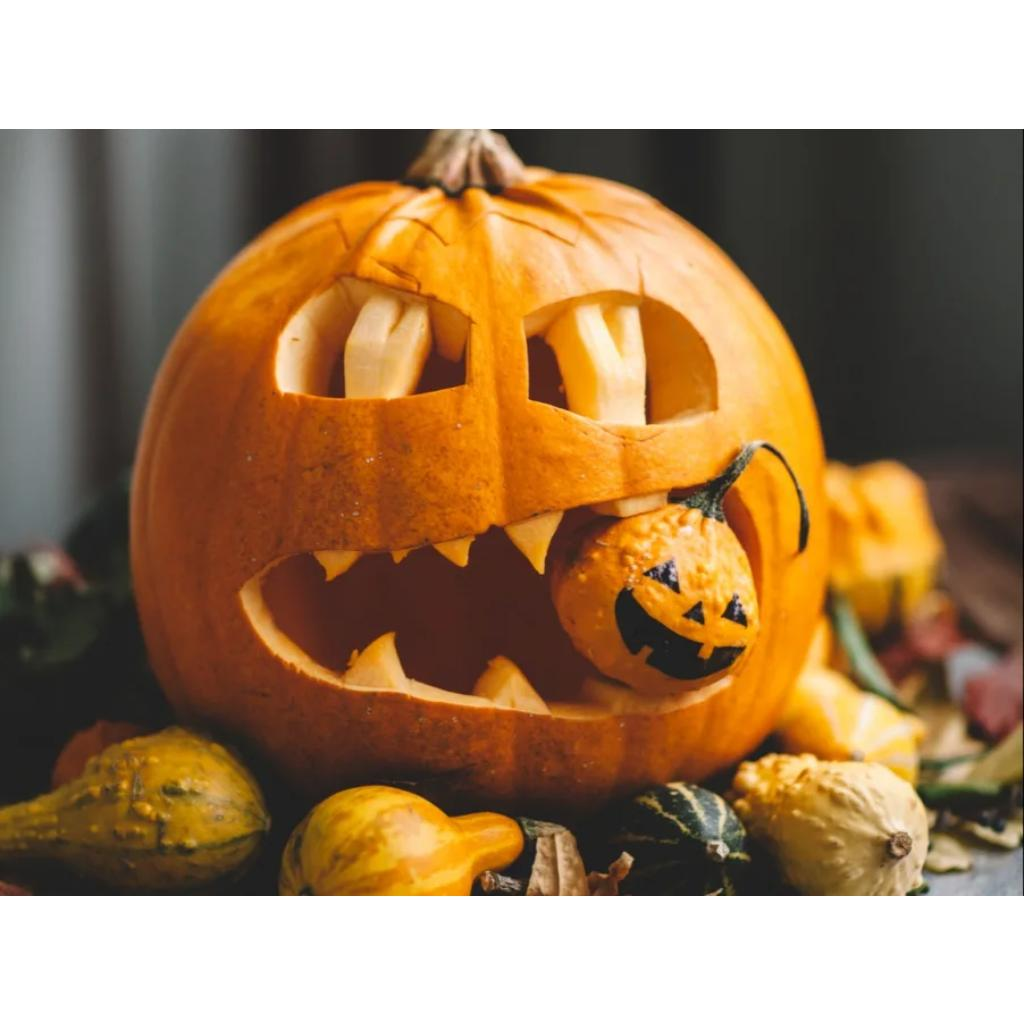pumpkin: (132, 132, 828, 811), (552, 442, 810, 694), (278, 784, 524, 894), (776, 618, 926, 781), (826, 460, 944, 630)
